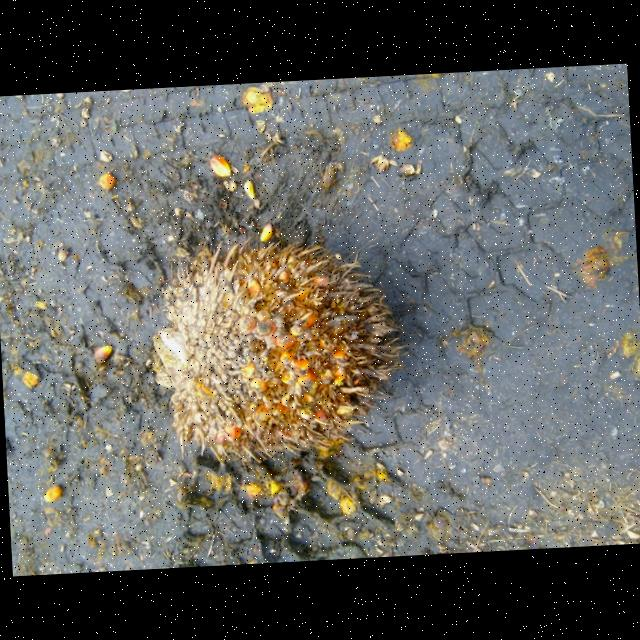Overripe: (152, 243, 392, 483)
